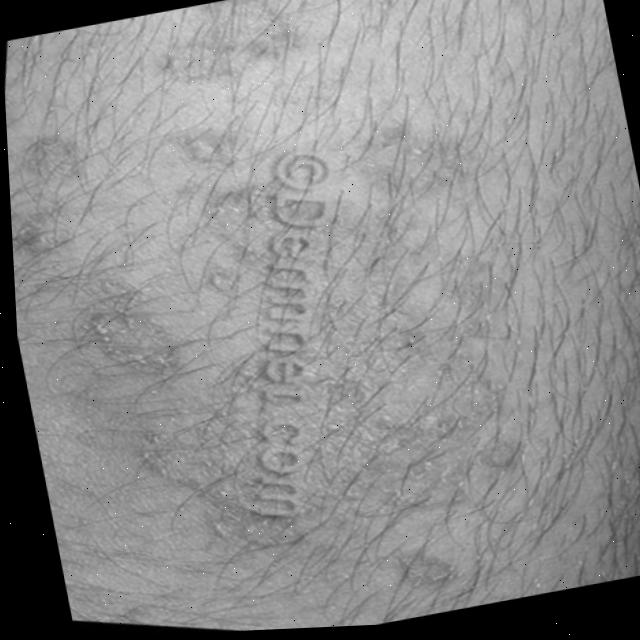Eczema: (13, 0, 539, 610)
